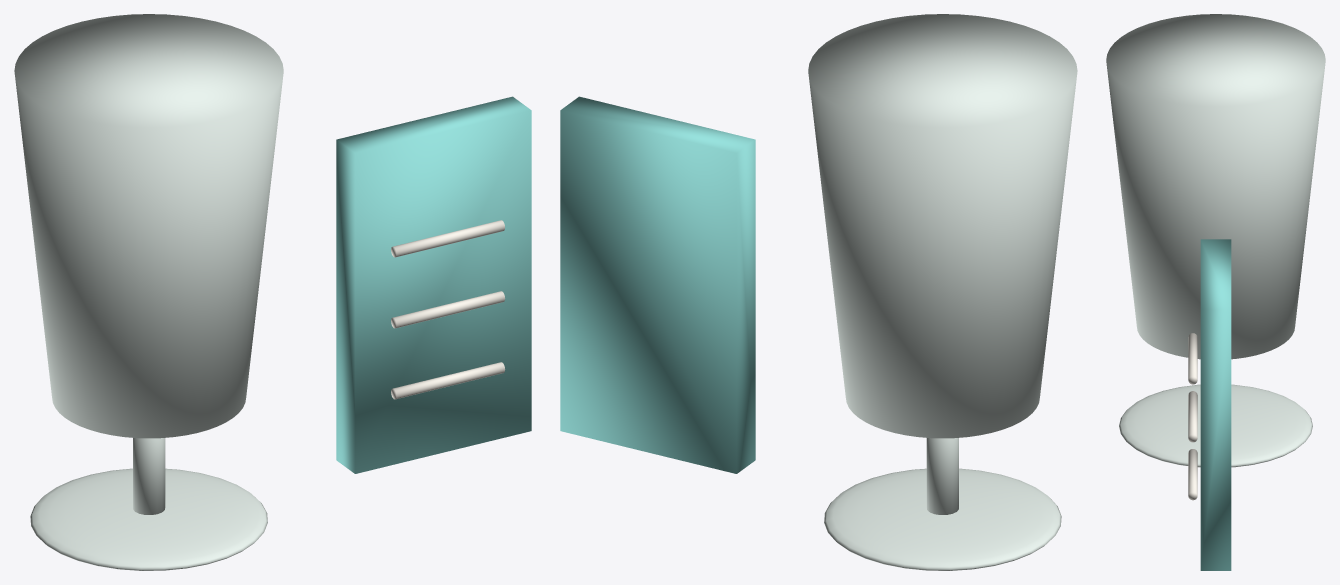
Rendered from nutrition-alcohol.glb.
The picture shows the model from 3 angles, left to right: view 1: azimuth 30°, elevation 25°; view 2: azimuth 150°, elevation 25°; view 3: azimuth 270°, elevation 25°; orthographic projection. The views are drawn at different scales.
Parts seen in each view (by area): view 1: static #c7ddd2, static #49bdb4, static #eee5d3; view 2: static #c7ddd2, static #49bdb4; view 3: static #c7ddd2, static #49bdb4, static #eee5d3.
Part boxes in pixels (x1=…): static #c7ddd2: x1=14, y1=14, x2=283, y2=570; static #49bdb4: x1=336, y1=96, x2=531, y2=473; static #eee5d3: x1=391, y1=220, x2=505, y2=399; static #c7ddd2: x1=808, y1=14, x2=1077, y2=570; static #49bdb4: x1=560, y1=96, x2=755, y2=473; static #c7ddd2: x1=1106, y1=14, x2=1325, y2=467; static #49bdb4: x1=1200, y1=239, x2=1231, y2=570; static #eee5d3: x1=1188, y1=333, x2=1197, y2=500.
Bounding box in the file's own units: 0.1805 × 0.162 × 0.086.
